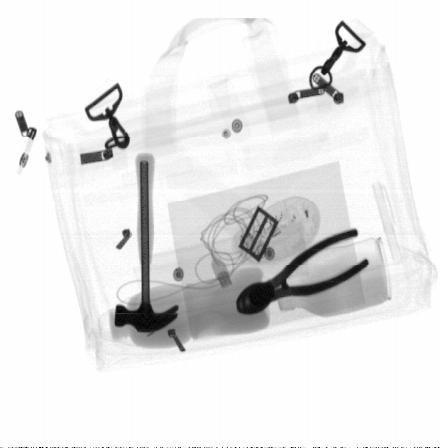Hammer: (114, 154, 179, 332)
Pliers: (236, 228, 368, 316)
